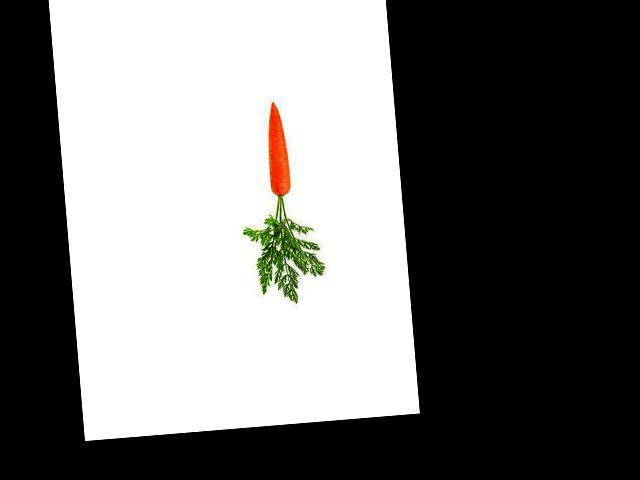carrot: (258, 96, 295, 203)
